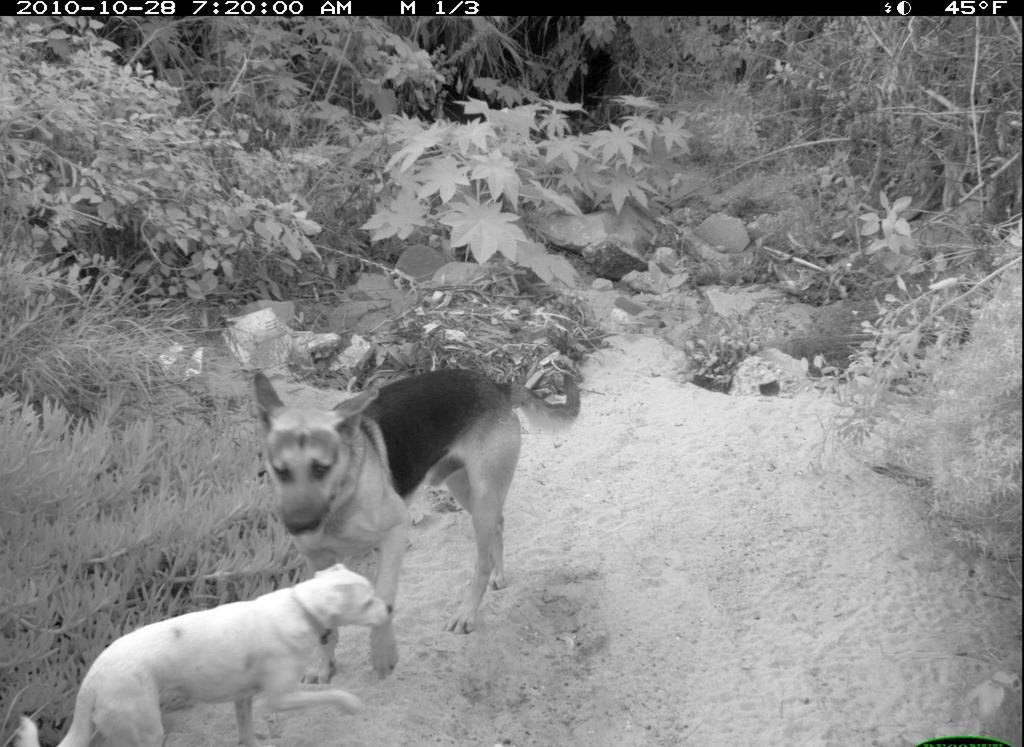dog: (241, 361, 591, 694), (18, 562, 392, 747)
